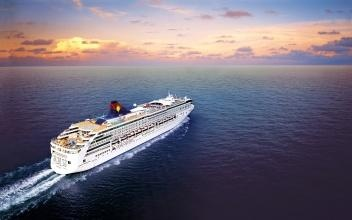youlun: (44, 90, 199, 180)
